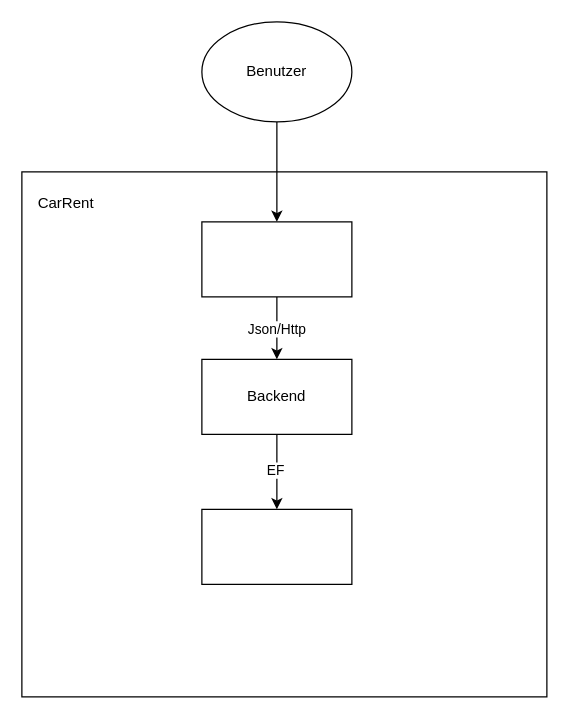
Image size: 569x719. Some labels were removed from this diagram. Here are the shapes that lost their labels. From the top down, the box of each, then its label:
(201, 221, 352, 297): Frontend
(201, 508, 352, 584): Database
